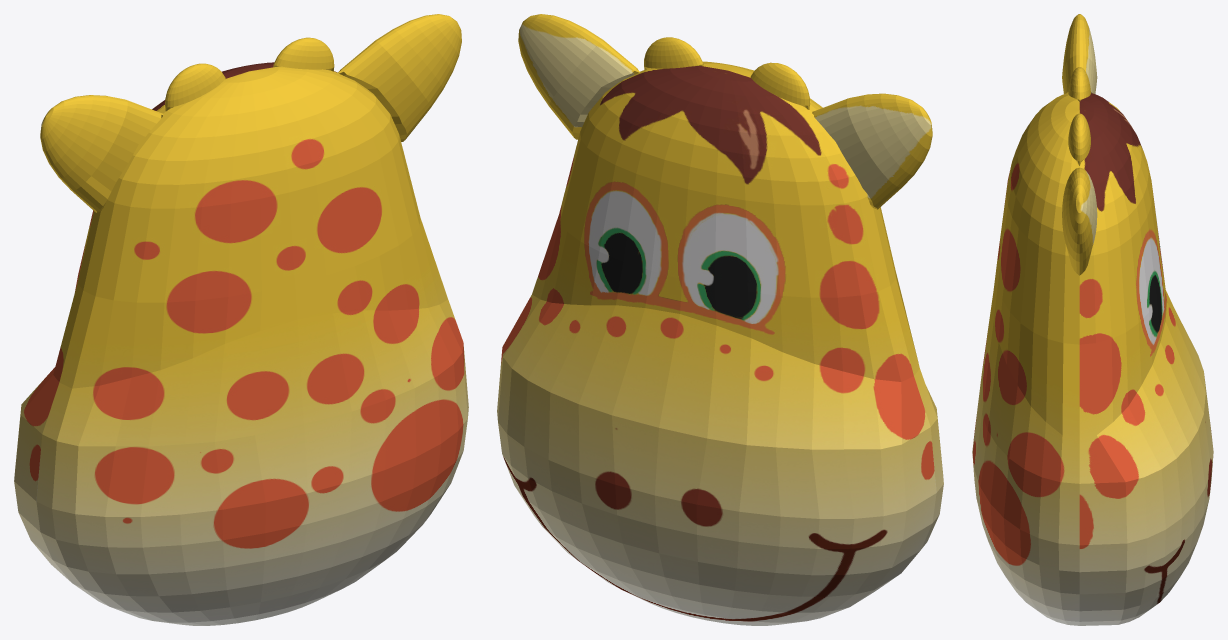
Rendered from Giraf balloon.fbx.
3 views of the same model, side by side, from view 1: azimuth 30°, elevation 25°; view 2: azimuth 150°, elevation 25°; view 3: azimuth 270°, elevation 25° (orthographic). The views are drawn at different scales.
Visible parts, largest first — view 1: Sphere; view 2: Sphere; view 3: Sphere.
Part boxes in pixels (x1,y1,x2,y2): Sphere: [14, 14, 468, 625]; Sphere: [497, 14, 943, 625]; Sphere: [972, 14, 1213, 625].
Bounding box in the file's own units: 268 × 338 × 146.
